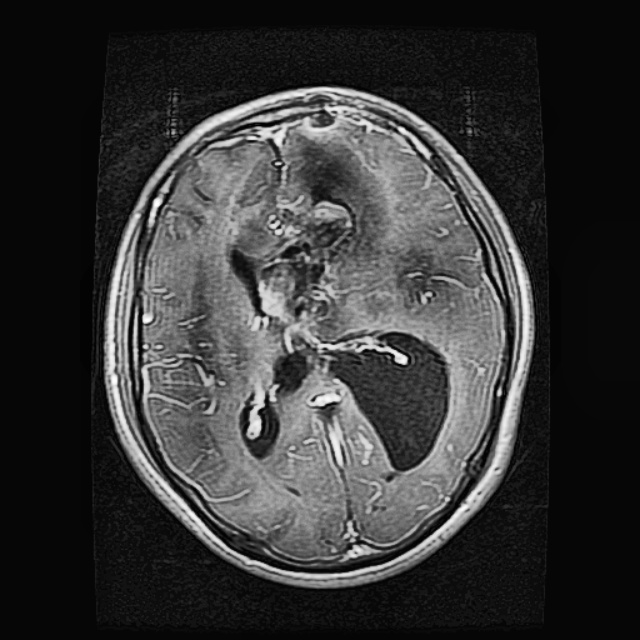Glioma: (223, 133, 380, 330)
